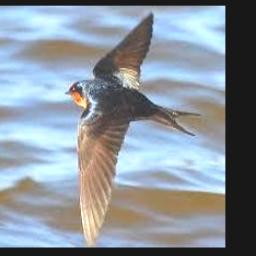Swallow: (65, 12, 200, 247)
